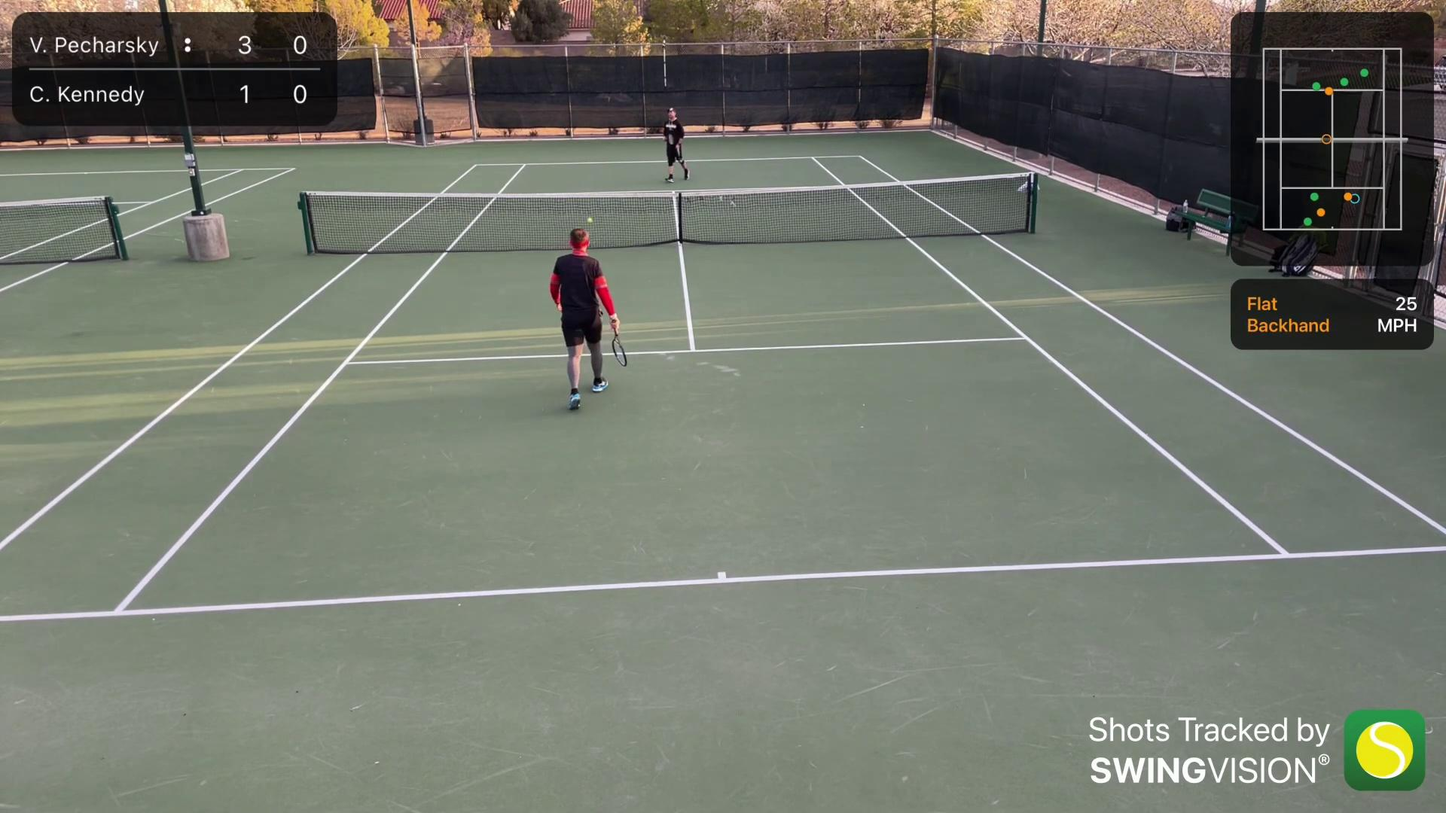ball: (586, 218, 593, 224)
